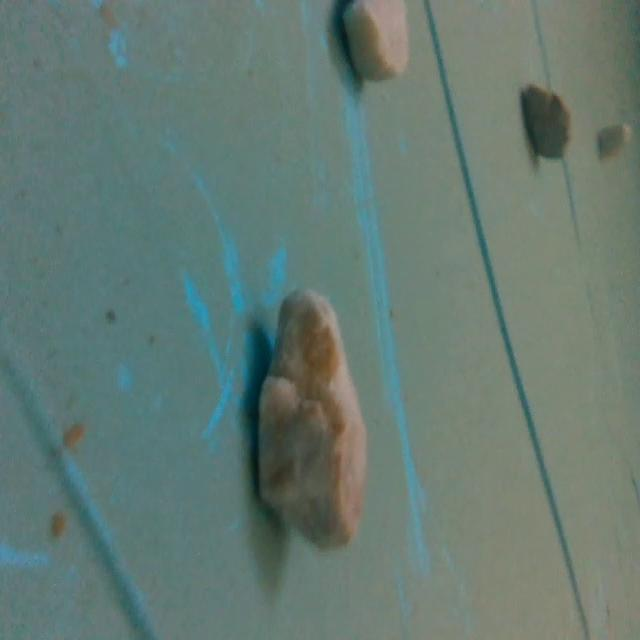rock: (254, 284, 378, 569), (324, 0, 421, 80), (516, 84, 573, 162)
